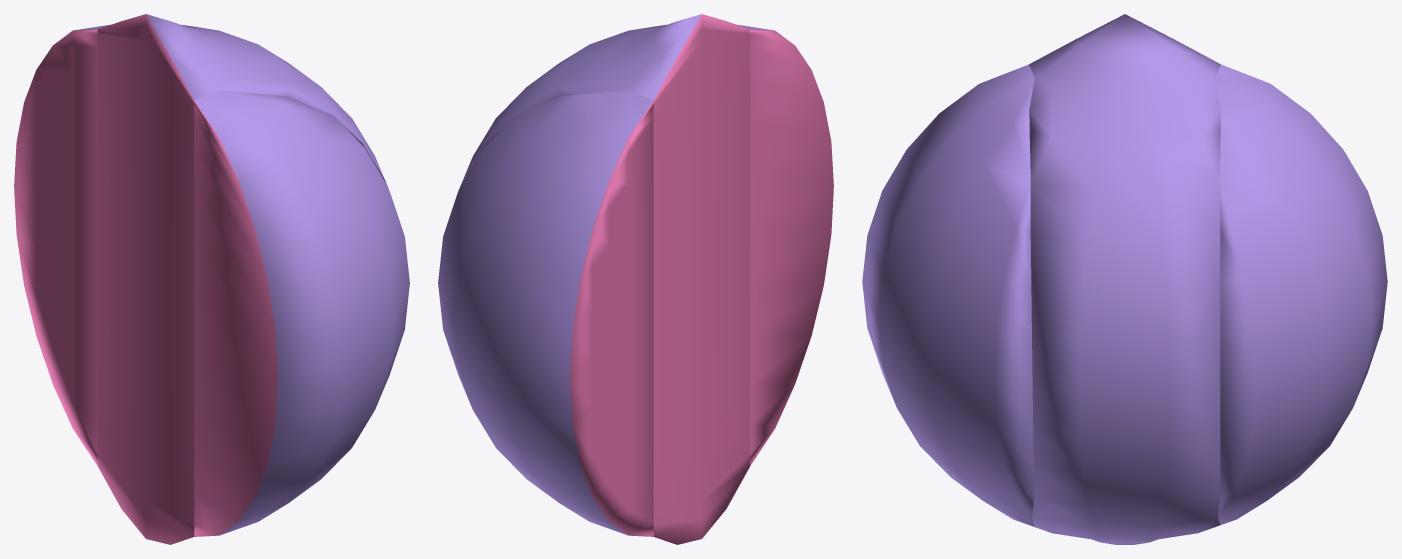
File: MultiCutIOnion.fbx
The picture shows the model from 3 angles, left to right: view 1: azimuth 30°, elevation 25°; view 2: azimuth 150°, elevation 25°; view 3: azimuth 270°, elevation 25°; orthographic projection.
Visible parts, largest first — view 1: OnionCut_1, OnionCut_2, OnionCut_3; view 2: OnionCut_3, OnionCut_2, OnionCut_1; view 3: OnionCut_2, OnionCut_1, OnionCut_3.
Boxes of the visible parts, box(x1,y1,x2,y2) form: OnionCut_1: box(194, 90, 409, 536); OnionCut_2: box(97, 14, 384, 544); OnionCut_3: box(14, 24, 188, 465); OnionCut_3: box(438, 91, 653, 536); OnionCut_2: box(463, 14, 750, 544); OnionCut_1: box(659, 24, 833, 465); OnionCut_2: box(1029, 14, 1220, 544); OnionCut_1: box(862, 64, 1034, 526); OnionCut_3: box(1215, 64, 1387, 524).
Size of the model in its own units: 7.82 by 17.42 by 15.87.
